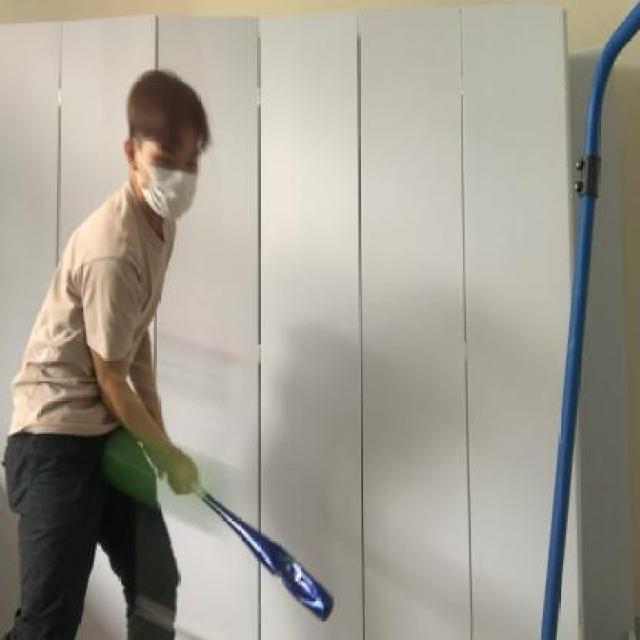baseball: (99, 425, 252, 538)
